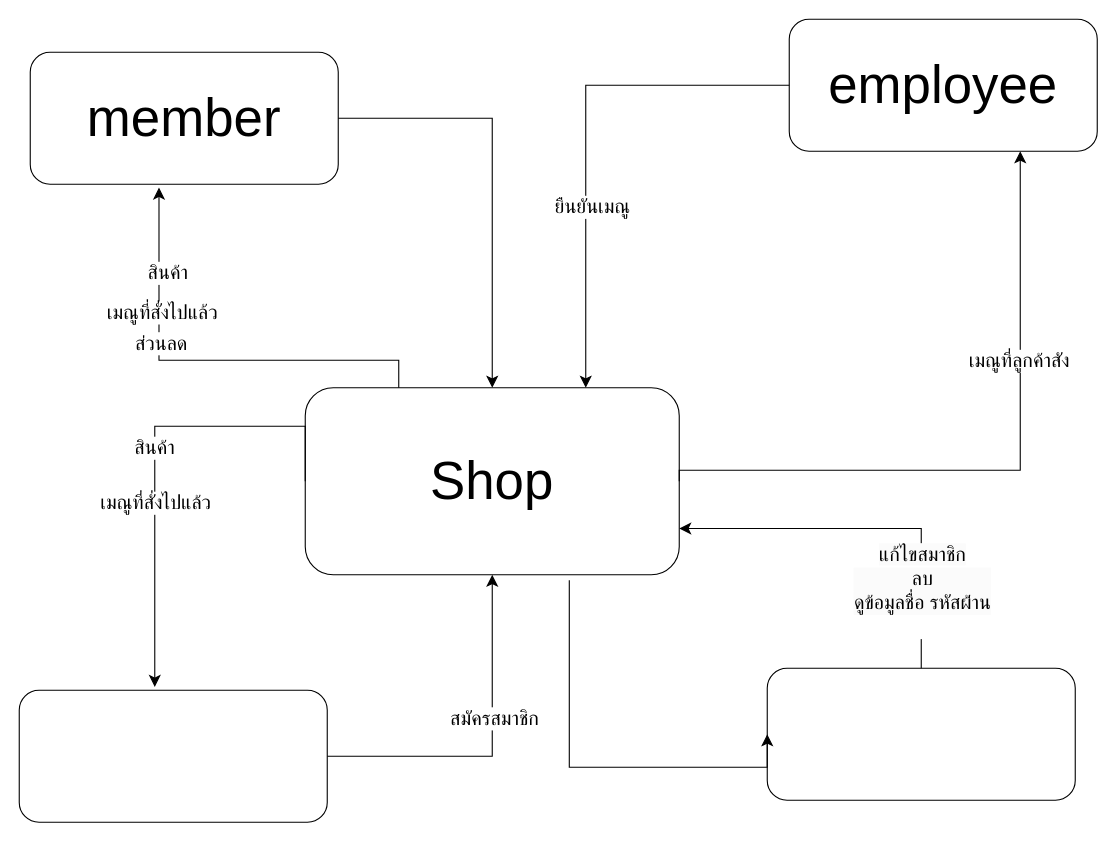
Some shapes in this 1117 by 842 pixel diagram are drawn without their labels. The centre of each missing label's shape, as x and y in pixels:
"admin" goes at (920,733).
"user" goes at (172,755).
